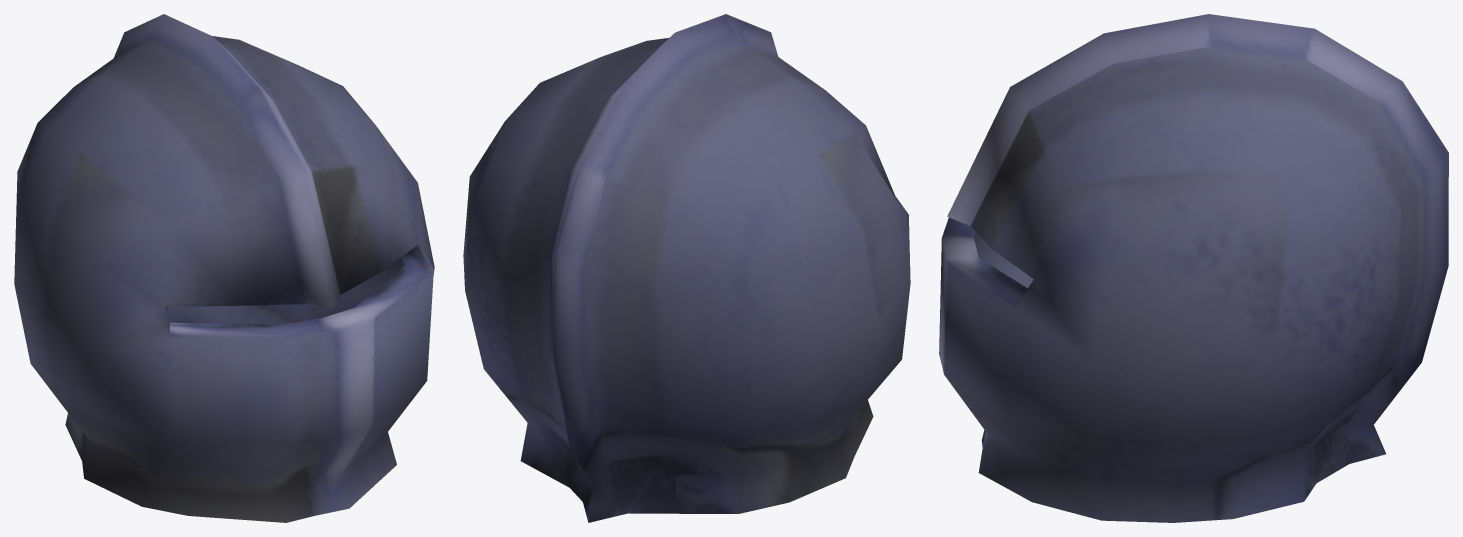
File: HelmNew.fbx
The picture shows the model from 3 angles, left to right: view 1: azimuth 30°, elevation 25°; view 2: azimuth 150°, elevation 25°; view 3: azimuth 270°, elevation 25°; orthographic projection. The views are drawn at different scales.
Parts seen in each view (by area): view 1: Helm.005; view 2: Helm.005; view 3: Helm.005.
Part boxes in pixels (<box>): Helm.005: <box>14,14,434,522</box>; Helm.005: <box>463,14,910,522</box>; Helm.005: <box>939,14,1448,522</box>.
Size of the model in its own units: 720 by 775 by 805.
